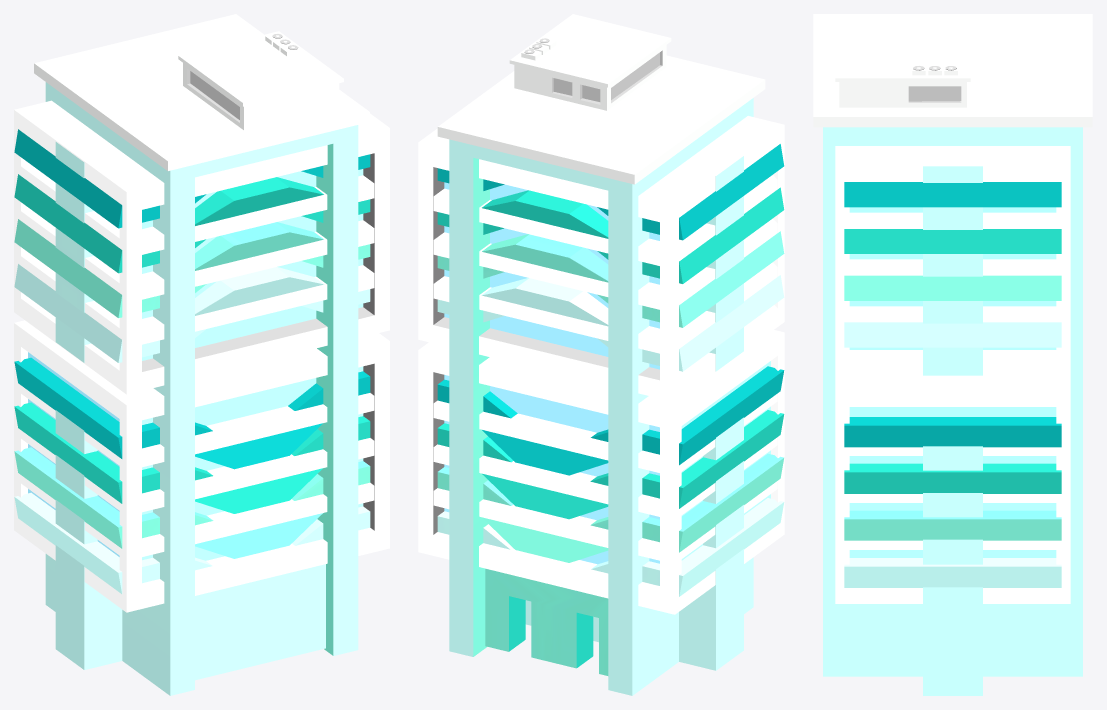
File: apartment 1.001.glb
The picture shows the model from 3 angles, left to right: view 1: azimuth 30°, elevation 25°; view 2: azimuth 150°, elevation 25°; view 3: azimuth 270°, elevation 25°; orthographic projection. The views are drawn at different scales.
Visible parts, largest first — view 1: apartment 1.001(Clone); view 2: apartment 1.001(Clone); view 3: apartment 1.001(Clone).
Part boxes in pixels (x1,y1,x2,y2): apartment 1.001(Clone): (14, 14, 389, 695); apartment 1.001(Clone): (418, 14, 784, 695); apartment 1.001(Clone): (813, 14, 1092, 695).
Size of the model in its own units: 13.82 by 27.95 by 11.81.
1 material, 1 textured.
